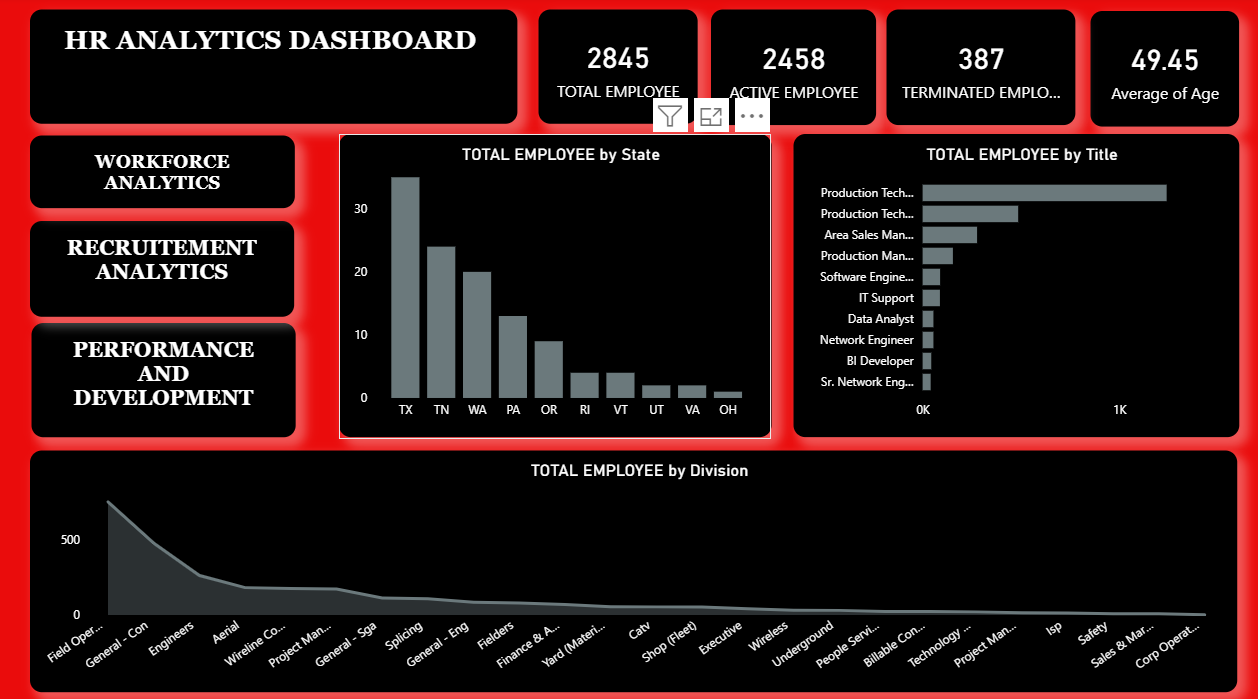

The page's visual inventory and layout, read from the dashboard file:
{"tool":"powerbi","page":{"name":"Executive HR Overview","canvas":[1280,720],"ordinal":0},"visuals":[{"type":"shape","box":[0,0,1279.4,720],"z":0},{"type":"textbox","box":[36.3,13.6,492.1,115.1],"z":1000},{"type":"card","fields":{"Values":["Cleaned_HR_Data_Analysis.TOTAL EMPLOYEE"]},"box":[549.7,13.6,160.5,115.1],"z":2000},{"type":"card","fields":{"Values":["Avg(Cleaned_HR_Data_Analysis.Age)"]},"box":[1106.9,15.1,149.9,116.6],"z":3000},{"type":"textbox","box":[37.9,330.1,266.5,115.1],"z":4000},{"type":"textbox","box":[36.3,227.1,266.5,96.9],"z":5000},{"type":"textbox","box":[36.5,140.3,267.4,73.1],"z":6000},{"type":"card","fields":{"Values":["Cleaned_HR_Data_Analysis.ACTIVE EMPLOYEE"]},"box":[723.8,13.6,166.6,116.6],"z":7000},{"type":"card","fields":{"Values":["Cleaned_HR_Data_Analysis.TERMINATED EMPLOYEE"]},"box":[901,13.6,190.8,116.6],"z":8000},{"type":"barChart","fields":{"Y":["Cleaned_HR_Data_Analysis.TOTAL EMPLOYEE"],"Category":["Cleaned_HR_Data_Analysis.Title"]},"box":[806.9,139.8,449.8,306.1],"z":9000},{"type":"columnChart","fields":{"Y":["Cleaned_HR_Data_Analysis.TOTAL EMPLOYEE"],"Category":["Cleaned_HR_Data_Analysis.State"]},"box":[347.7,139.8,436.5,306.1],"z":9001},{"type":"stackedAreaChart","fields":{"Y":["Cleaned_HR_Data_Analysis.TOTAL EMPLOYEE"],"Category":["Cleaned_HR_Data_Analysis.Division"]},"box":[36.3,458.8,1218.9,243.8],"z":9002}]}

Visuals, with their boxes in screenshot pixels (x1, y1, x2, y2), scaled from the page's 1280x720 canvas onto the 1258x699 screenshot:
shape: (x1=0, y1=0, x2=1257, y2=698)
textbox: (x1=36, y1=13, x2=519, y2=125)
card - Cleaned_HR_Data_Analysis.TOTAL EMPLOYEE: (x1=540, y1=13, x2=698, y2=125)
card - Avg(Cleaned_HR_Data_Analysis.Age): (x1=1088, y1=15, x2=1235, y2=128)
textbox: (x1=37, y1=320, x2=299, y2=432)
textbox: (x1=36, y1=220, x2=298, y2=315)
textbox: (x1=36, y1=136, x2=299, y2=207)
card - Cleaned_HR_Data_Analysis.ACTIVE EMPLOYEE: (x1=711, y1=13, x2=875, y2=126)
card - Cleaned_HR_Data_Analysis.TERMINATED EMPLOYEE: (x1=886, y1=13, x2=1073, y2=126)
barChart - Cleaned_HR_Data_Analysis.TOTAL EMPLOYEE x Cleaned_HR_Data_Analysis.Title: (x1=793, y1=136, x2=1235, y2=433)
columnChart - Cleaned_HR_Data_Analysis.TOTAL EMPLOYEE x Cleaned_HR_Data_Analysis.State: (x1=342, y1=136, x2=771, y2=433)
stackedAreaChart - Cleaned_HR_Data_Analysis.TOTAL EMPLOYEE x Cleaned_HR_Data_Analysis.Division: (x1=36, y1=445, x2=1234, y2=682)
